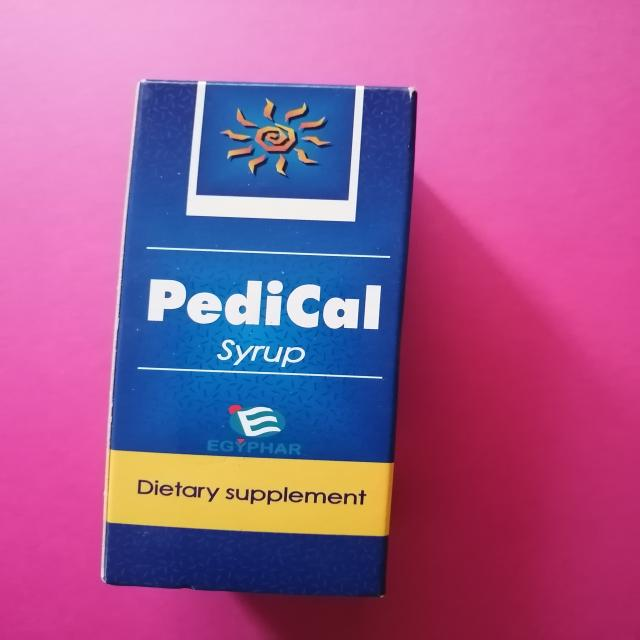Medicine: (100, 72, 420, 600)
